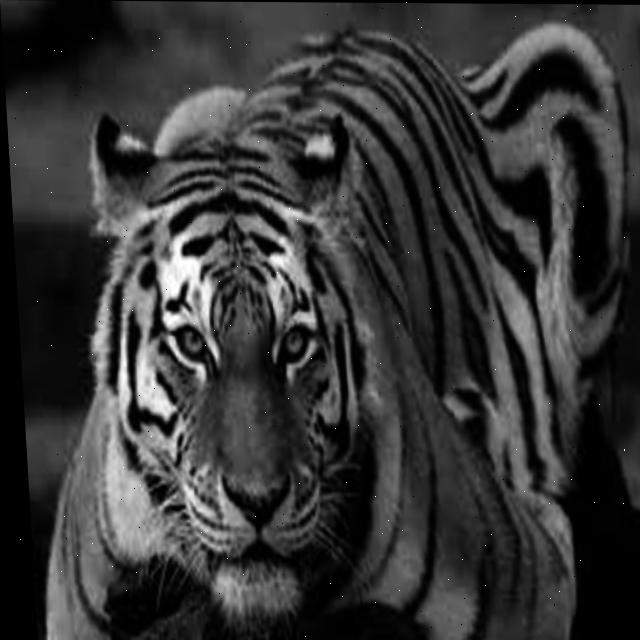Tiger: (1, 15, 640, 640)
